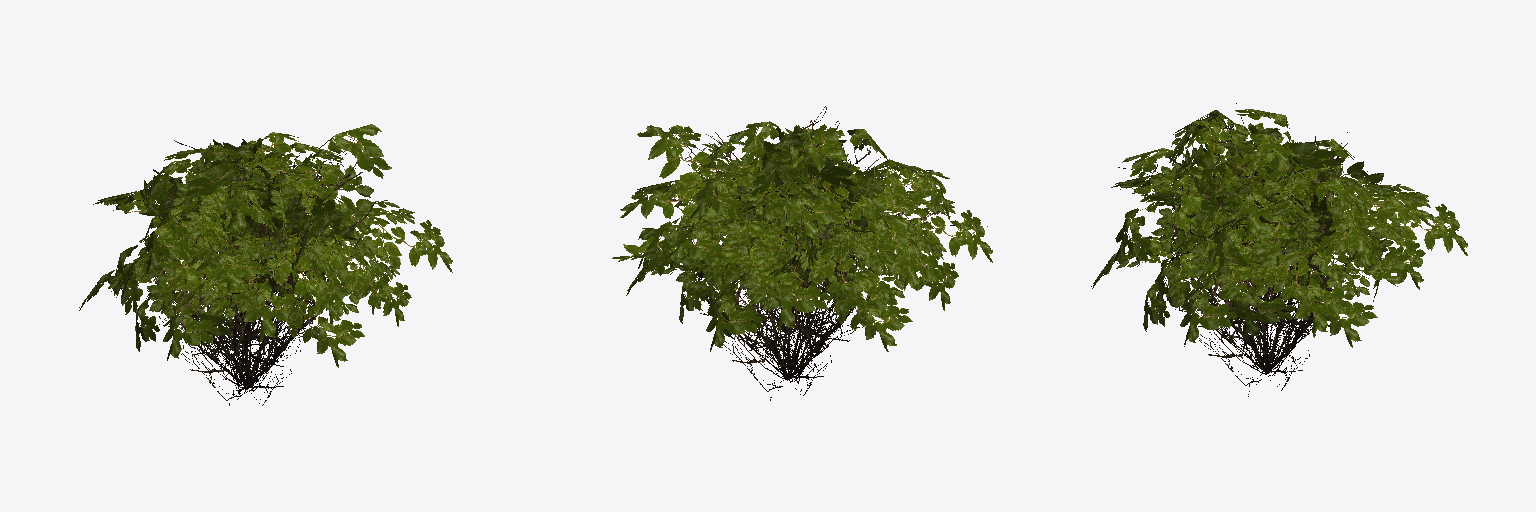
3 renders of one model, left to right at view 1: azimuth 30°, elevation 25°; view 2: azimuth 150°, elevation 25°; view 3: azimuth 270°, elevation 25°, orthographic.
Parts seen in each view (by area): view 1: Bush05_LOD2_Mesh.010; view 2: Bush05_LOD2_Mesh.010; view 3: Bush05_LOD2_Mesh.010.
Boxes of the visible parts, x1=… form: Bush05_LOD2_Mesh.010: x1=79, y1=124, x2=452, y2=405; Bush05_LOD2_Mesh.010: x1=612, y1=106, x2=992, y2=400; Bush05_LOD2_Mesh.010: x1=1091, y1=103, x2=1467, y2=396.
Bounding box in the file's own units: 4.58 × 3.81 × 4.59.
Materials: 1 (1 with a texture image).